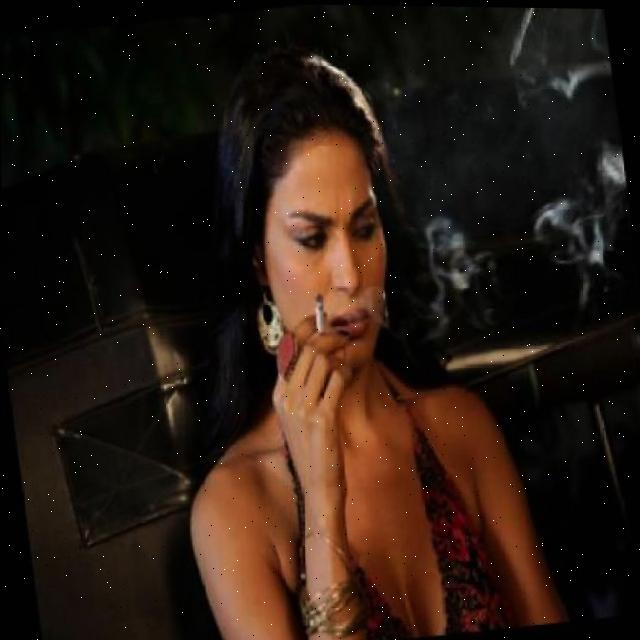cigarette: (314, 292, 325, 337)
